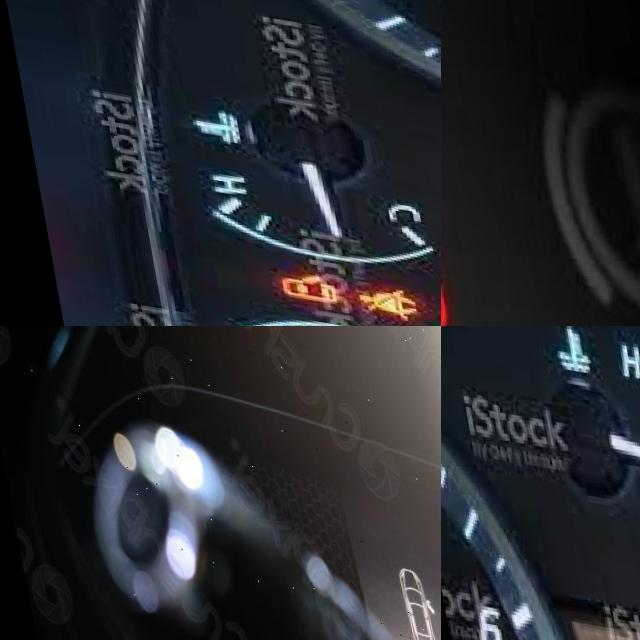Seat Belt: (339, 262, 413, 307)
